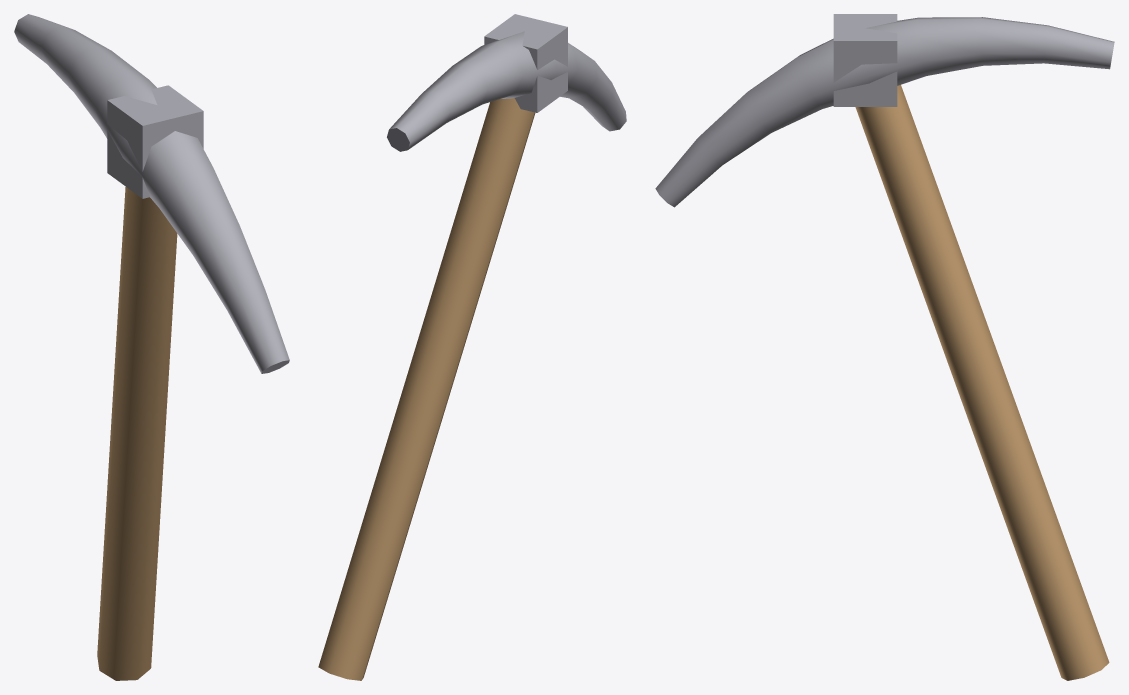
Rendered from DolphinPickaxe.fbx.
3 renders of one model, left to right at view 1: azimuth 30°, elevation 25°; view 2: azimuth 150°, elevation 25°; view 3: azimuth 270°, elevation 25°, orthographic. The views are drawn at different scales.
Visible parts, largest first — view 1: DolphinPickaxe; view 2: DolphinPickaxe; view 3: DolphinPickaxe.
Boxes of the visible parts, x1,y1,x2,y2 form: DolphinPickaxe: (14, 14, 289, 680); DolphinPickaxe: (318, 14, 626, 680); DolphinPickaxe: (655, 14, 1114, 680).
Bounding box in the file's own units: 0.1714 × 0.753 × 0.505.
